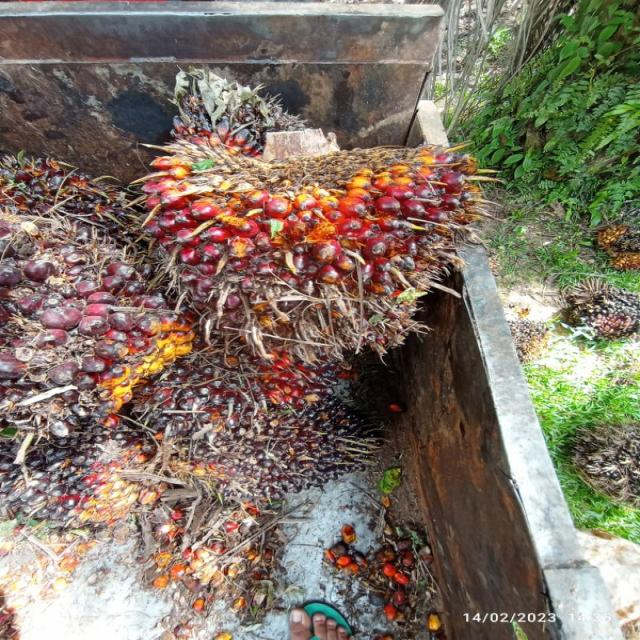fraksi 00: (139, 335, 366, 507)
fraksi 3: (143, 111, 482, 366)
